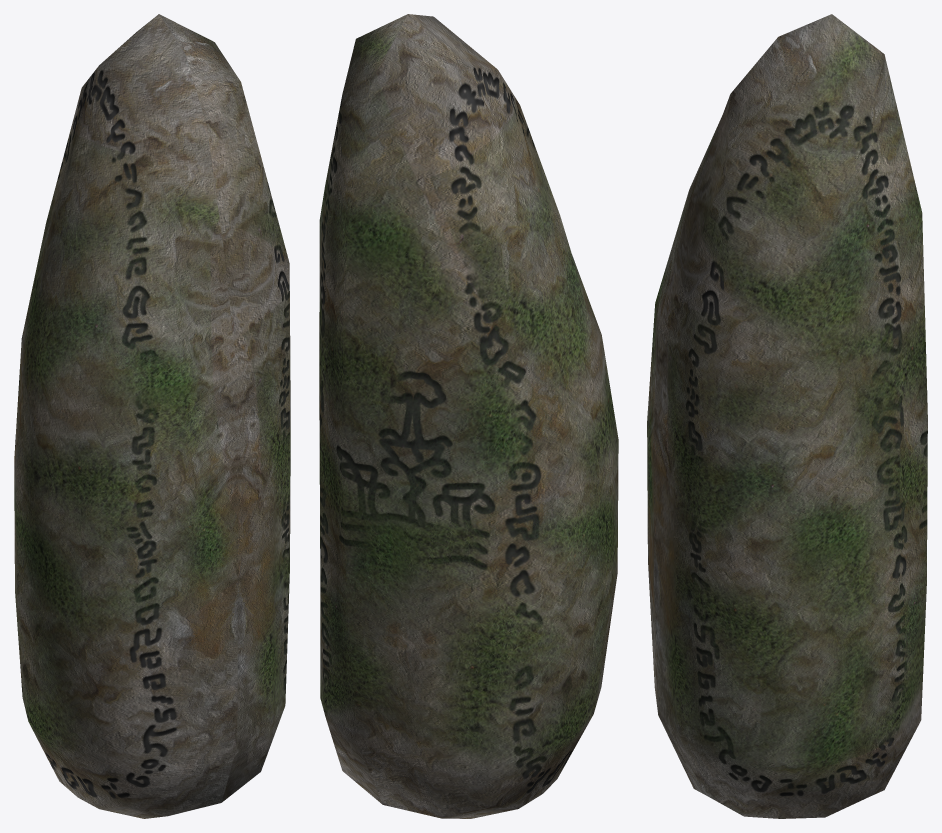
The model's file is RGS2pCube2Shape.dae.
The picture shows the model from 3 angles, left to right: view 1: azimuth 30°, elevation 25°; view 2: azimuth 150°, elevation 25°; view 3: azimuth 270°, elevation 25°; orthographic projection. The views are drawn at different scales.
Parts seen in each view (by area): view 1: RGS2_pCube2; view 2: RGS2_pCube2; view 3: RGS2_pCube2.
Boxes of the visible parts, <box> form: RGS2_pCube2: <box>14,14,290,818</box>; RGS2_pCube2: <box>319,14,618,818</box>; RGS2_pCube2: <box>647,14,927,818</box>.
Size of the model in its own units: 2.36 by 6.87 by 2.2.
